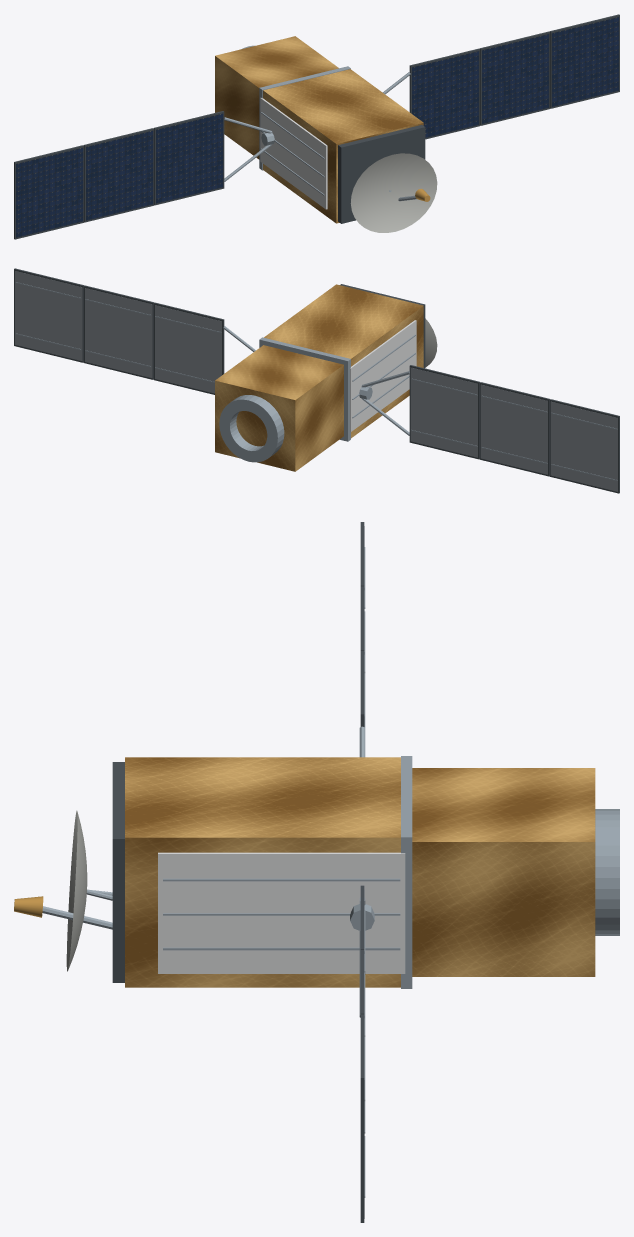
File: ref-ets-5-18316.glb
3 renders of one model, top to bottom at view 1: azimuth 30°, elevation 25°; view 2: azimuth 150°, elevation 25°; view 3: azimuth 270°, elevation 25°, orthographic. The views are drawn at different scales.
Visible parts, largest first — view 1: Solar cell panel (×6), Payload module, Service module, Deck-mounted reflector, Radiator face, Solar panel frame (×6), Earth-facing deck, Module interface; view 2: Rear array substrate (×6), Service module, Payload module, Solar panel frame (×6), Radiator face, Launch adapter ring, Module interface, Deck-mounted reflector, Earth-facing deck; view 3: Service module, Payload module, Radiator face, Launch adapter ring, Earth-facing deck, Module interface, Deck-mounted reflector, Radiator seam (×2), Solar panel frame.
Part boxes in pixels (x1,y1,x2,y2): Solar cell panel (×6): (16,17,618,237); Payload module: (263,69,423,223); Service module: (215,36,338,159); Deck-mounted reflector: (350,153,437,232); Radiator face: (260,98,327,209); Solar panel frame (×6): (14,14,619,239); Earth-facing deck: (338,125,425,223); Module interface: (259,66,350,170); Rear array substrate (×6): (15,271,617,491); Service module: (215,345,343,471); Payload module: (264,284,423,438); Solar panel frame (×6): (14,268,619,493); Radiator face: (350,320,416,431); Launch adapter ring: (219,395,284,462); Module interface: (259,337,350,441); Deck-mounted reflector: (425,318,437,367); Earth-facing deck: (340,284,425,368); Service module: (412,768,595,976); Payload module: (125,757,400,987); Radiator face: (158,852,405,973); Launch adapter ring: (595,809,619,935); Earth-facing deck: (112,762,124,982); Module interface: (401,756,412,988); Deck-mounted reflector: (66,810,87,971); Radiator seam (×2): (163,878,400,950); Solar panel frame: (360,1014,364,1222).
Size of the model in its own units: 9.69 by 1.34 by 4.46.
8 materials, 2 textured.
